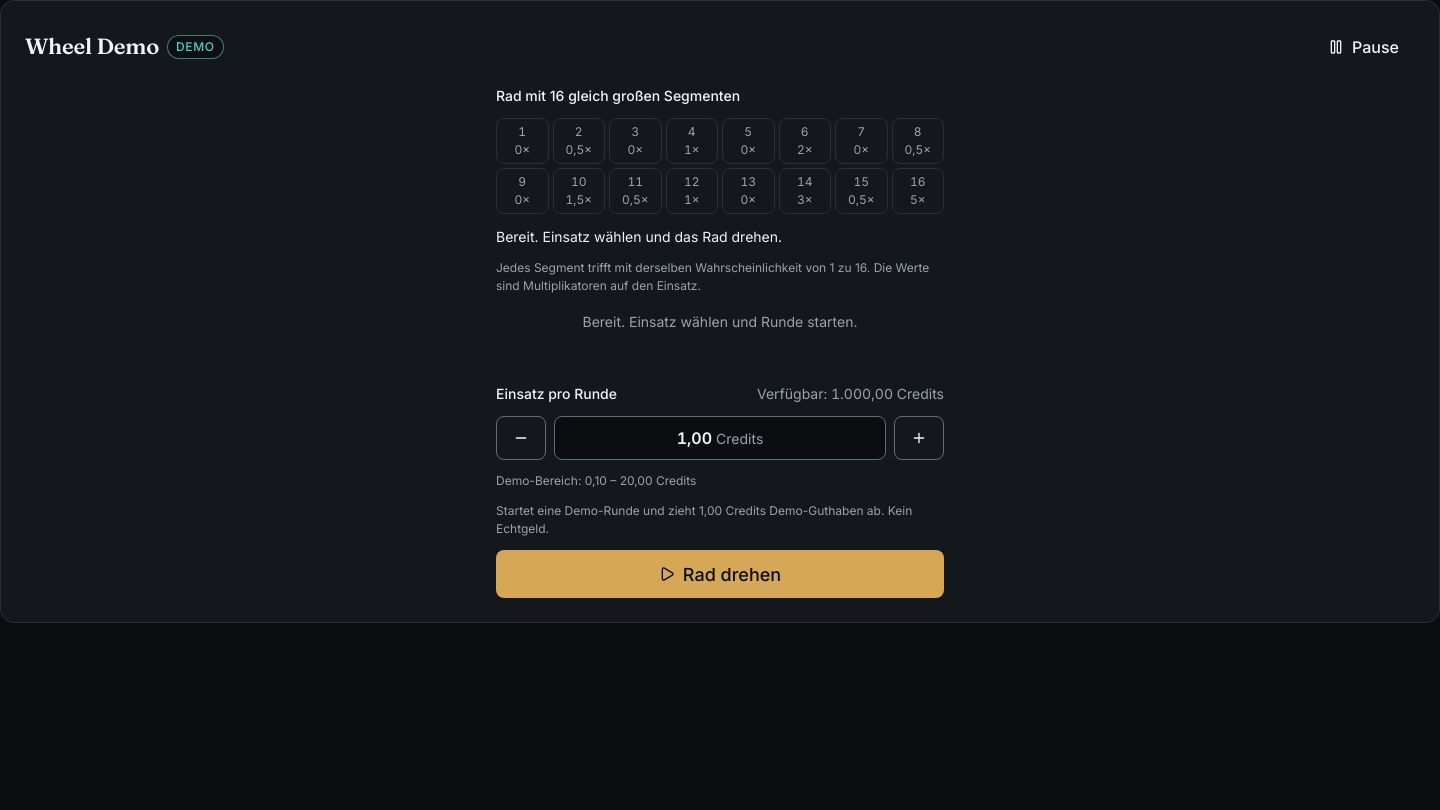
Test case: Arcade-Oberflächen › Wheel: eine Runde benennt das getroffene Segment
The width and height of the screenshot is (1440, 810).
What coordinates should you click on to do the following:
click the button "Rad drehen"
I would click on:
 (720, 574)
Its box is [496,550,944,598].
Wait 1450 ms
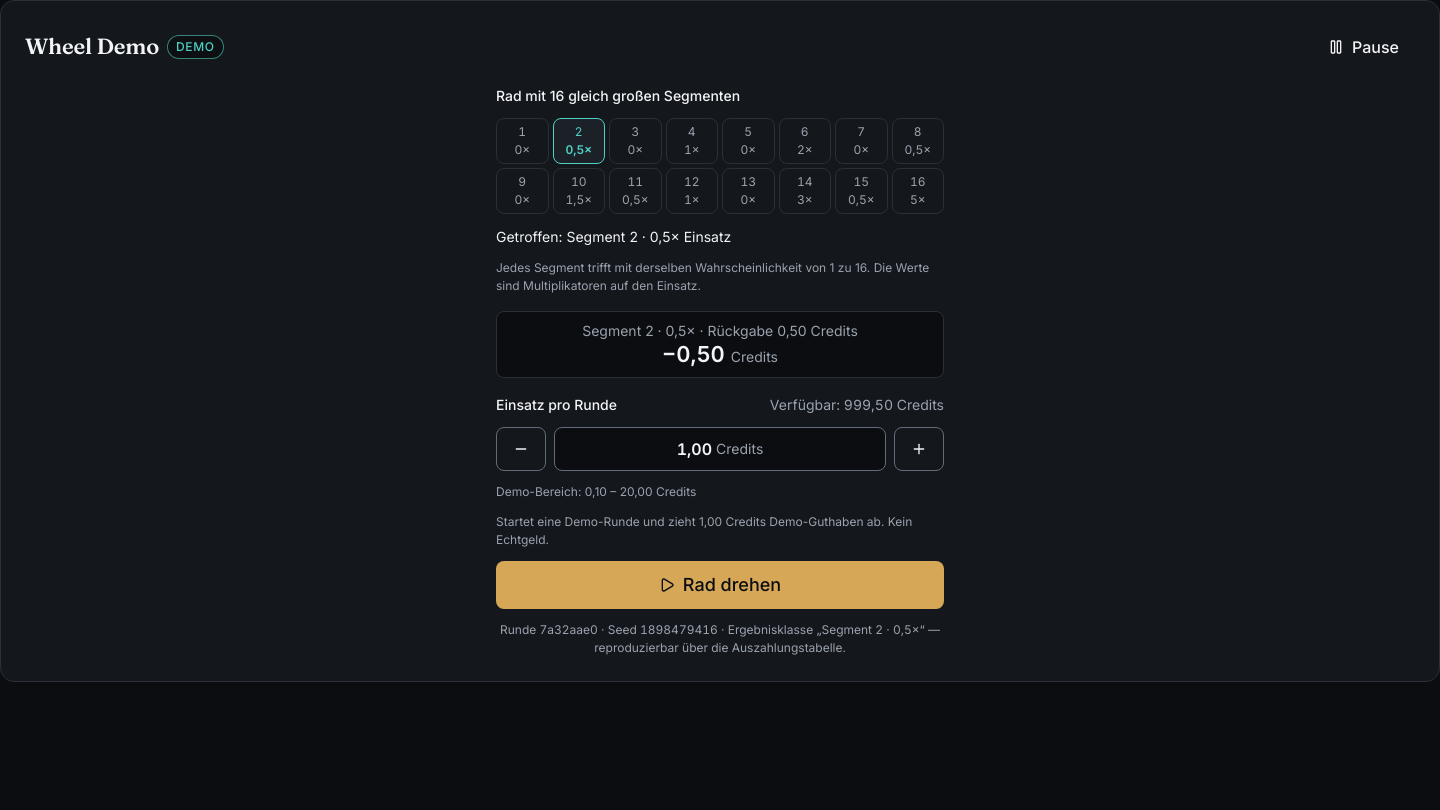
Check: the text "Getroffen: Segment 2 · 0,5× Einsatz" is shown, box [496,228,731,245]
